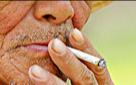Cigarette: (66, 44, 106, 68)
